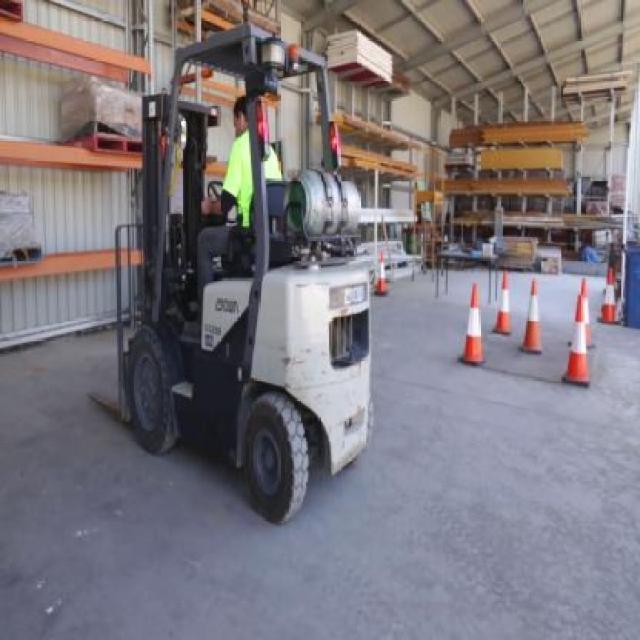forklift: (120, 26, 373, 525)
